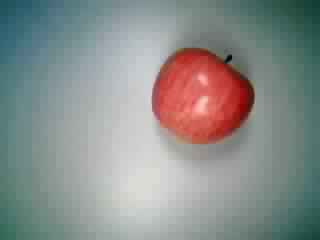apple: (150, 44, 255, 146)
